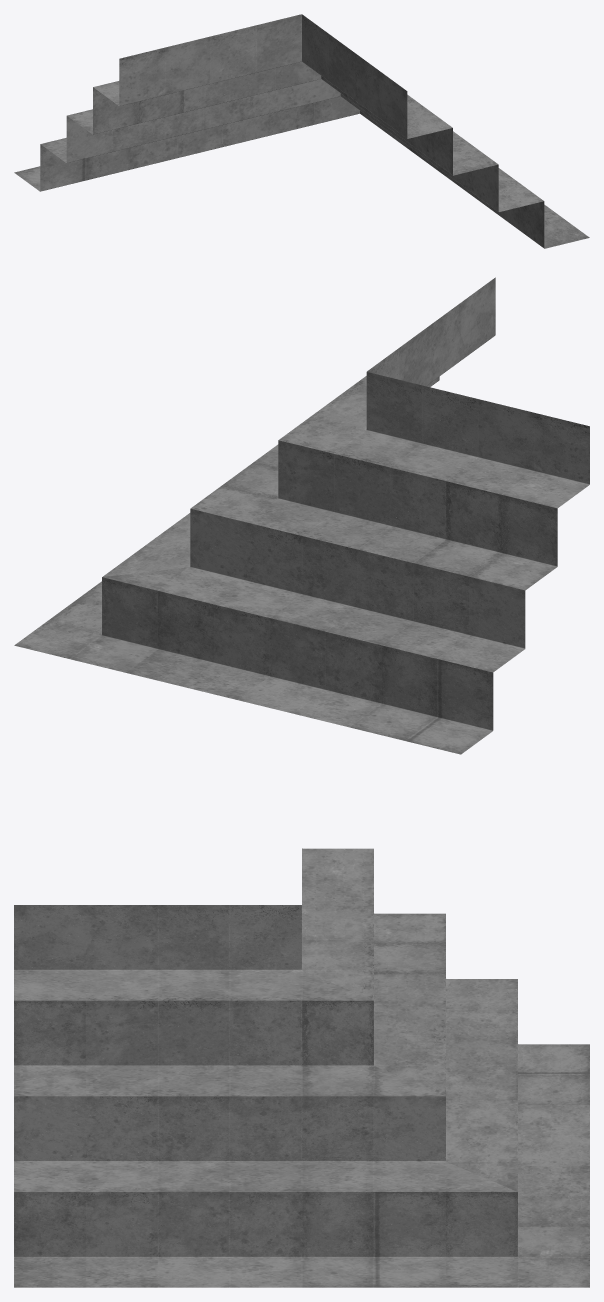
File: SM_Ceiling_13.fbx
3 renders of one model, top to bottom at view 1: azimuth 30°, elevation 25°; view 2: azimuth 150°, elevation 25°; view 3: azimuth 270°, elevation 25°, orthographic. The views are drawn at different scales.
Visible parts, largest first — view 1: SM_Ceiling_13; view 2: SM_Ceiling_13; view 3: SM_Ceiling_13.
Part boxes in pixels (x1,y1,x2,y2): SM_Ceiling_13: (14,14,589,248); SM_Ceiling_13: (14,277,589,754); SM_Ceiling_13: (14,848,589,1287).
Size of the model in its own units: 800 by 400 by 800.
